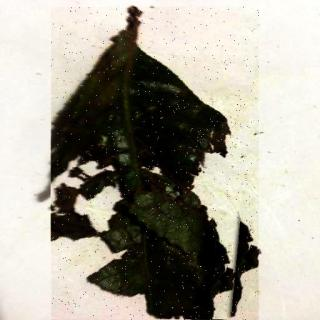Red Leaf Spot: (52, 8, 260, 320)
